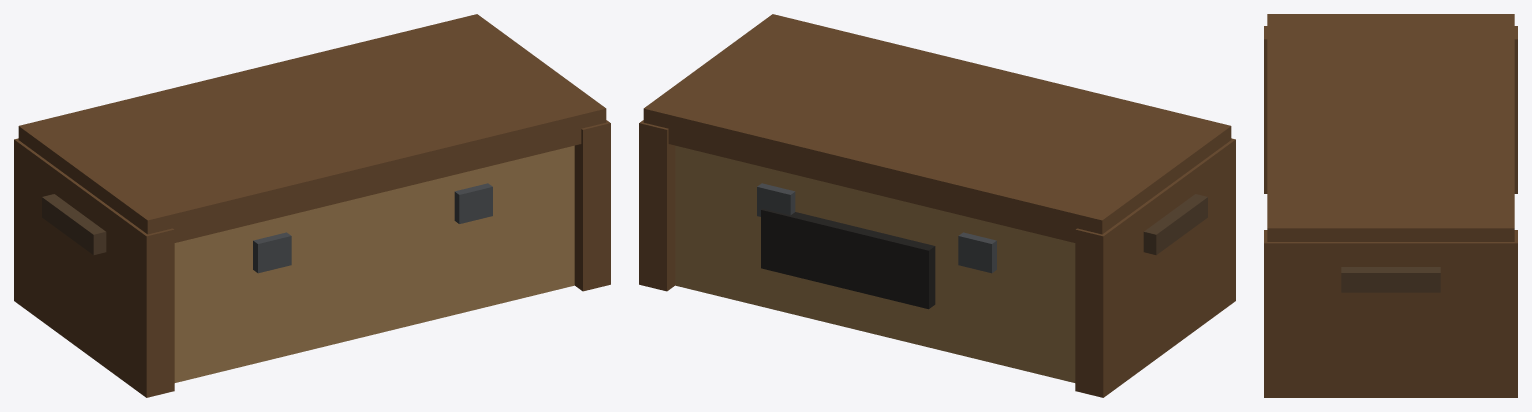
The model's file is ammo_crate.glb.
3 renders of one model, left to right at view 1: azimuth 30°, elevation 25°; view 2: azimuth 150°, elevation 25°; view 3: azimuth 270°, elevation 25°, orthographic. The views are drawn at different scales.
Visible parts, largest first — view 1: ammo_crate; view 2: ammo_crate; view 3: ammo_crate.
Part boxes in pixels (left/top/right/bottom): ammo_crate: left=14, top=14, right=610, bottom=397; ammo_crate: left=639, top=14, right=1235, bottom=397; ammo_crate: left=1264, top=14, right=1517, bottom=397.
Bounding box in the file's own units: 0.875 × 0.3 × 0.41.
